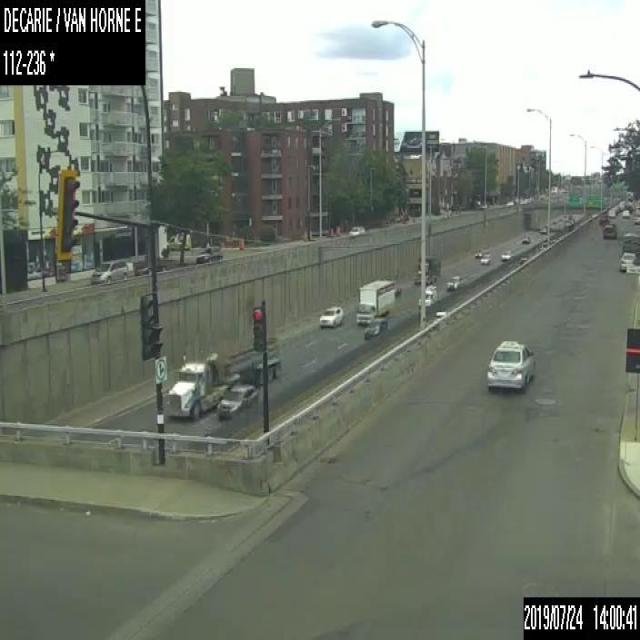construction: (239, 235, 243, 249)
vehicle: (164, 345, 280, 416), (484, 337, 536, 391), (356, 280, 394, 324), (216, 382, 258, 418), (88, 258, 135, 283), (413, 254, 441, 284), (134, 255, 167, 276), (317, 304, 344, 328), (362, 317, 388, 339), (418, 284, 440, 309), (195, 244, 222, 264), (622, 233, 639, 261), (617, 251, 639, 272), (166, 232, 190, 250), (444, 274, 463, 290), (602, 223, 618, 237), (347, 224, 365, 235), (474, 245, 488, 257), (500, 249, 515, 260), (481, 253, 492, 265), (598, 213, 609, 224), (521, 234, 530, 243), (607, 208, 615, 217), (621, 208, 629, 216)
